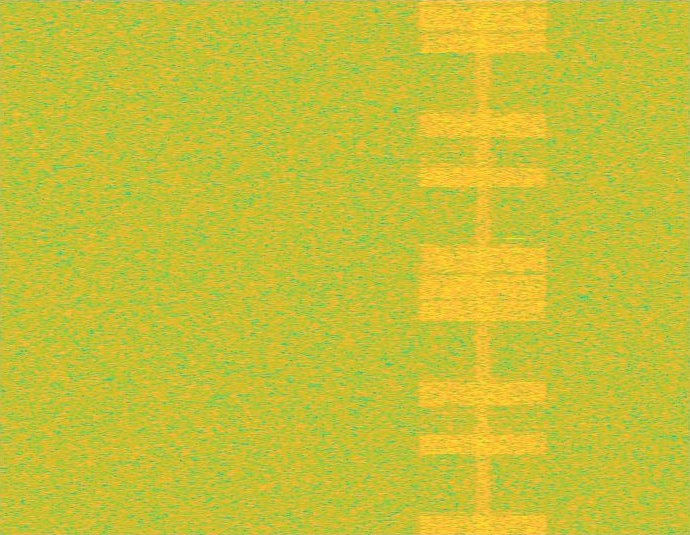DSSS: (474, 0, 492, 534)
LTE: (414, 0, 552, 534)
Radar: (507, 0, 521, 534)
